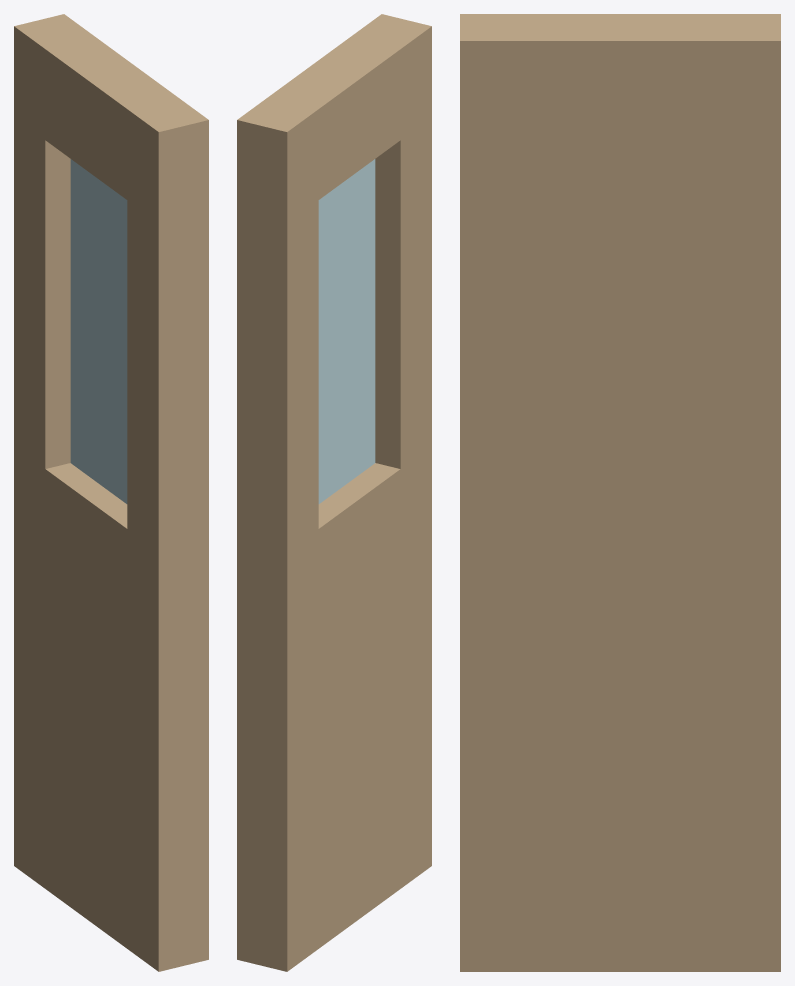
File: Building Door 2.fbx
3 views of the same model, side by side, from view 1: azimuth 30°, elevation 25°; view 2: azimuth 150°, elevation 25°; view 3: azimuth 270°, elevation 25° (orthographic). The views are drawn at different scales.
Parts seen in each view (by area): view 1: Building Door 2; view 2: Building Door 2; view 3: Building Door 2.
Boxes of the visible parts, x1,y1,x2,y2 form: Building Door 2: (14,14,208,971); Building Door 2: (237,14,431,971); Building Door 2: (460,14,780,971).
Bounding box in the file's own units: 0.05 × 0.8 × 0.25.
